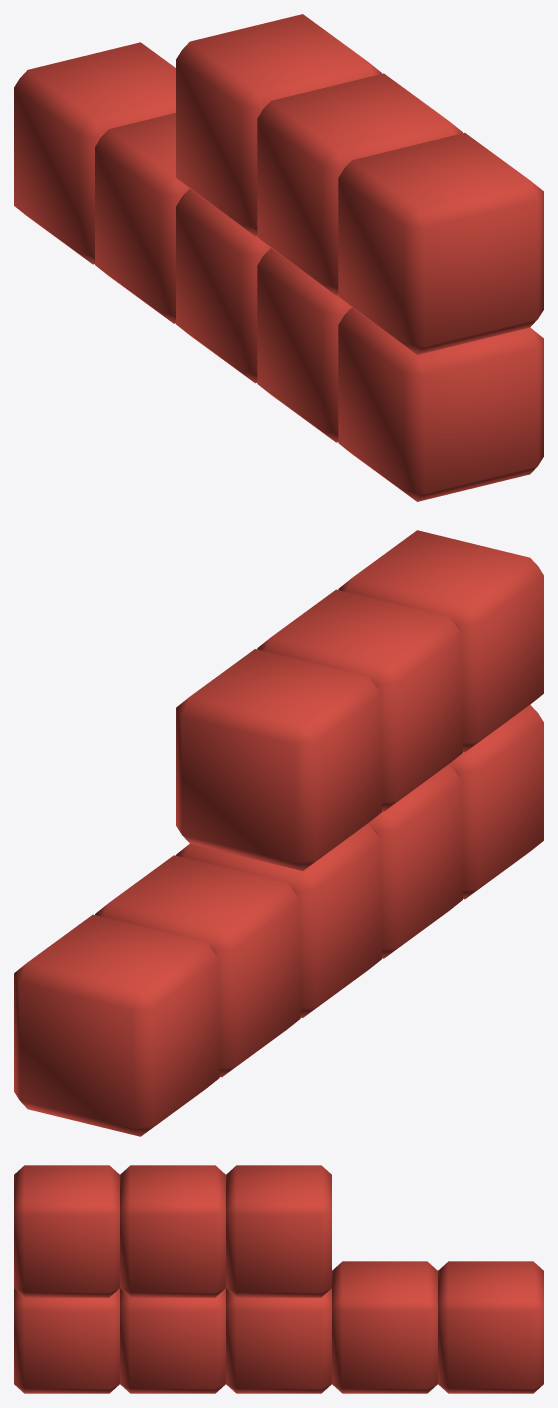
File: obstacle-004.fbx
The picture shows the model from 3 angles, top to bottom: view 1: azimuth 30°, elevation 25°; view 2: azimuth 150°, elevation 25°; view 3: azimuth 270°, elevation 25°; orthographic projection. The views are drawn at different scales.
Parts seen in each view (by area): view 1: obstacle-004; view 2: obstacle-004; view 3: obstacle-004.
Part boxes in pixels (left/top/right/bottom): obstacle-004: left=14, top=14, right=543, bottom=501; obstacle-004: left=14, top=530, right=543, bottom=1136; obstacle-004: left=14, top=1165, right=543, bottom=1393.
Bounding box in the file's own units: 200 × 400 × 1000.
